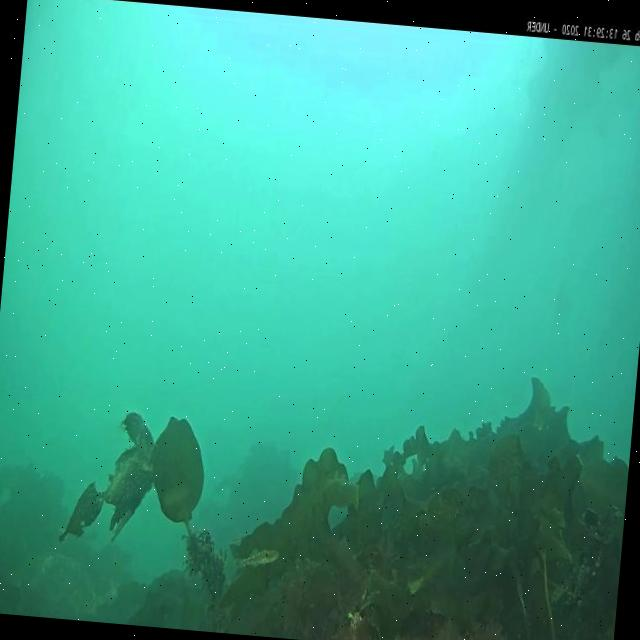fish: (236, 546, 280, 570)
